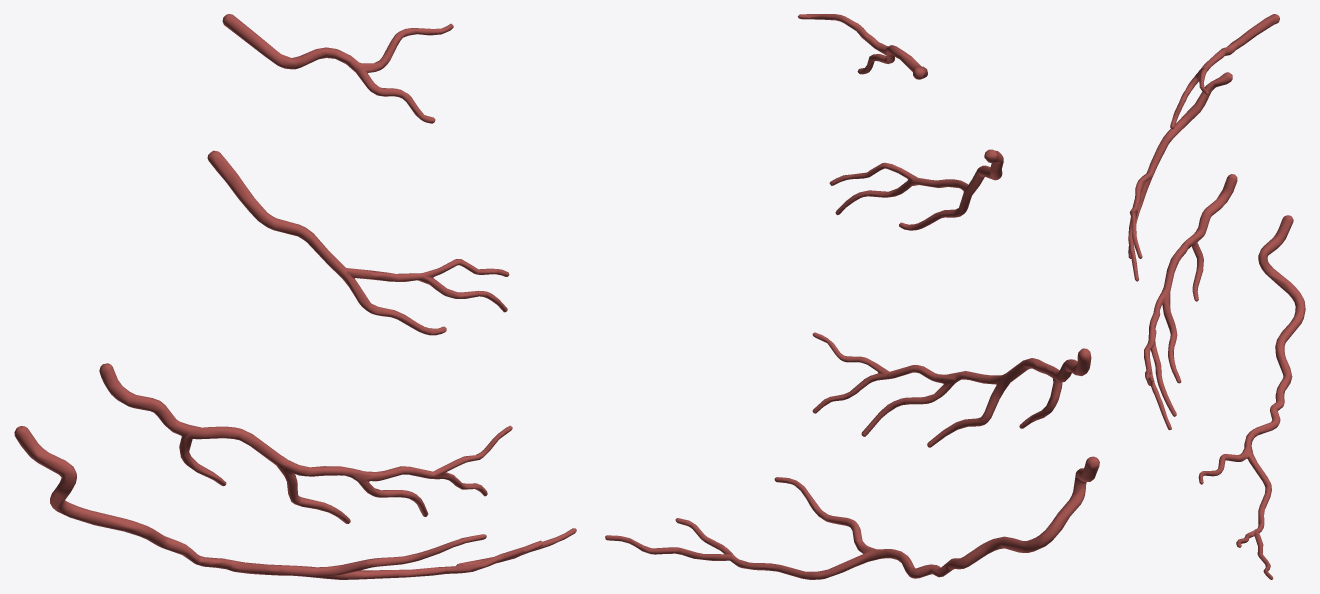
The model's file is FMA3818.glb.
The picture shows the model from 3 angles, left to right: view 1: azimuth 30°, elevation 25°; view 2: azimuth 150°, elevation 25°; view 3: azimuth 270°, elevation 25°; orthographic projection. The views are drawn at different scales.
Visible parts, largest first — view 1: FMA3818; view 2: FMA3818; view 3: FMA3818.
Part boxes in pixels (x1,y1,x2,y2): FMA3818: [14, 14, 576, 579]; FMA3818: [605, 14, 1099, 579]; FMA3818: [1128, 14, 1305, 579].
Bounding box in the file's own units: 0.077 × 0.0811 × 0.0292.
